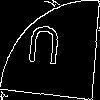U: (25, 25, 63, 75)
